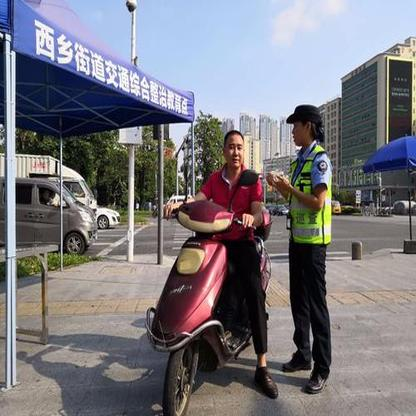target: (144, 128, 282, 413)
